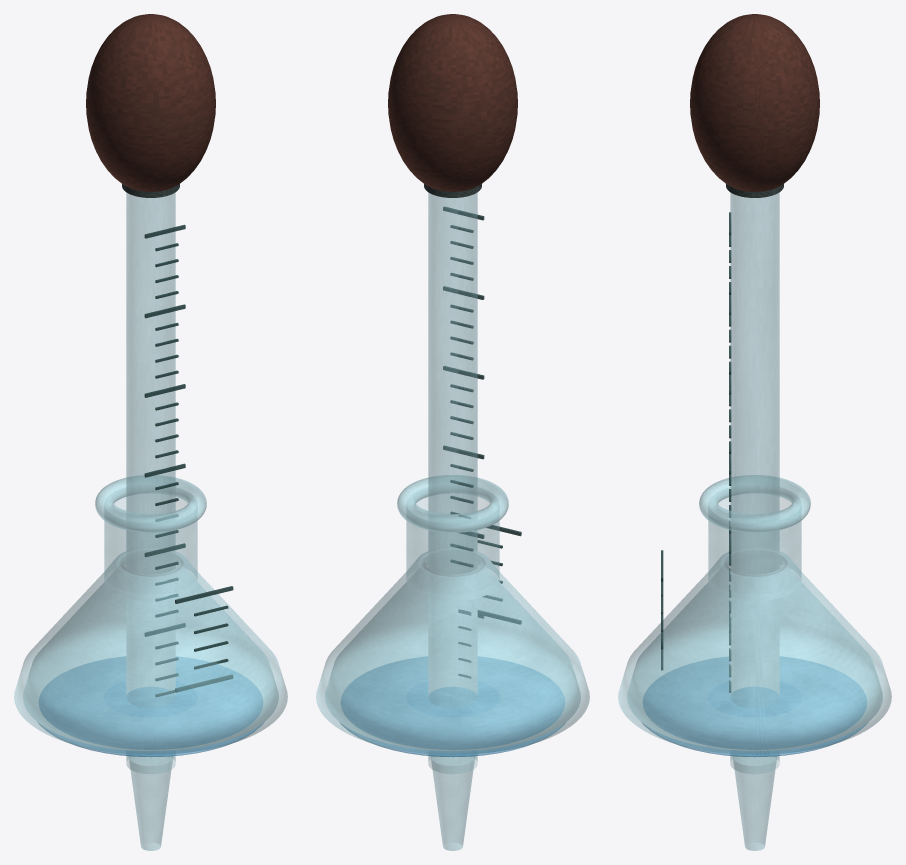
The model's file is alat-18.glb.
3 views of the same model, side by side, from view 1: azimuth 30°, elevation 25°; view 2: azimuth 150°, elevation 25°; view 3: azimuth 270°, elevation 25° (orthographic).
Visible parts, largest first — view 1: erlenmeyer-36, tube-0, pipetteFiller-34, liquidSurface-46, tube-37, torus-38, cone-1; view 2: erlenmeyer-36, tube-0, pipetteFiller-34, liquidSurface-46, tube-37, torus-38, cone-1; view 3: erlenmeyer-36, tube-0, pipetteFiller-34, liquidSurface-46, tube-37, torus-38, cone-1.
Part boxes in pixels (x1,y1,x2,y2): erlenmeyer-36: (14,552,287,754); tube-0: (126,192,175,773); pipetteFiller-34: (86,14,215,191); liquidSurface-46: (38,656,263,756); tube-37: (104,497,197,600); torus-38: (95,475,206,532); cone-1: (129,756,172,850); erlenmeyer-36: (316,552,589,754); tube-0: (428,192,477,773); pipetteFiller-34: (388,14,517,191); liquidSurface-46: (340,656,565,756); tube-37: (406,497,499,600); torus-38: (397,475,508,532); cone-1: (431,756,474,850); erlenmeyer-36: (618,552,891,754); tube-0: (730,192,779,773); pipetteFiller-34: (690,14,819,191); liquidSurface-46: (642,656,867,756); tube-37: (708,497,801,600); torus-38: (699,475,810,532); cone-1: (733,756,776,850).
Size of the model in its own units: 1.6 by 5.34 by 1.6.
47 materials, 47 textured.
